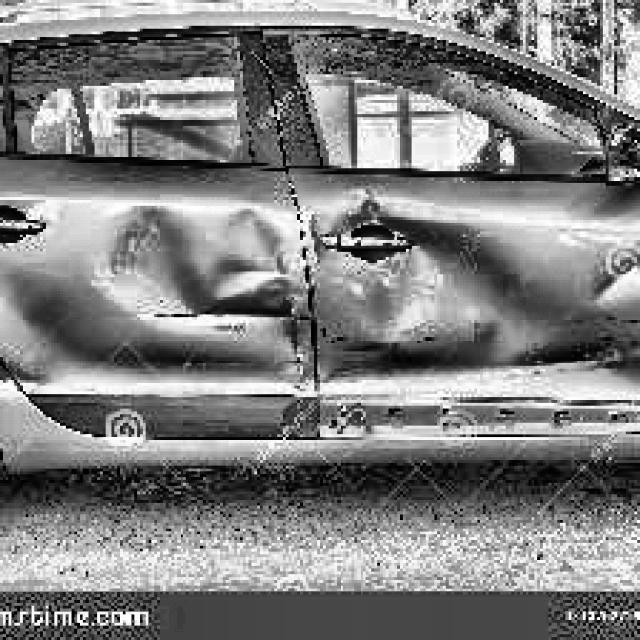door_dent: (316, 210, 629, 384), (101, 204, 302, 382)
door_scratch: (148, 298, 289, 328)
